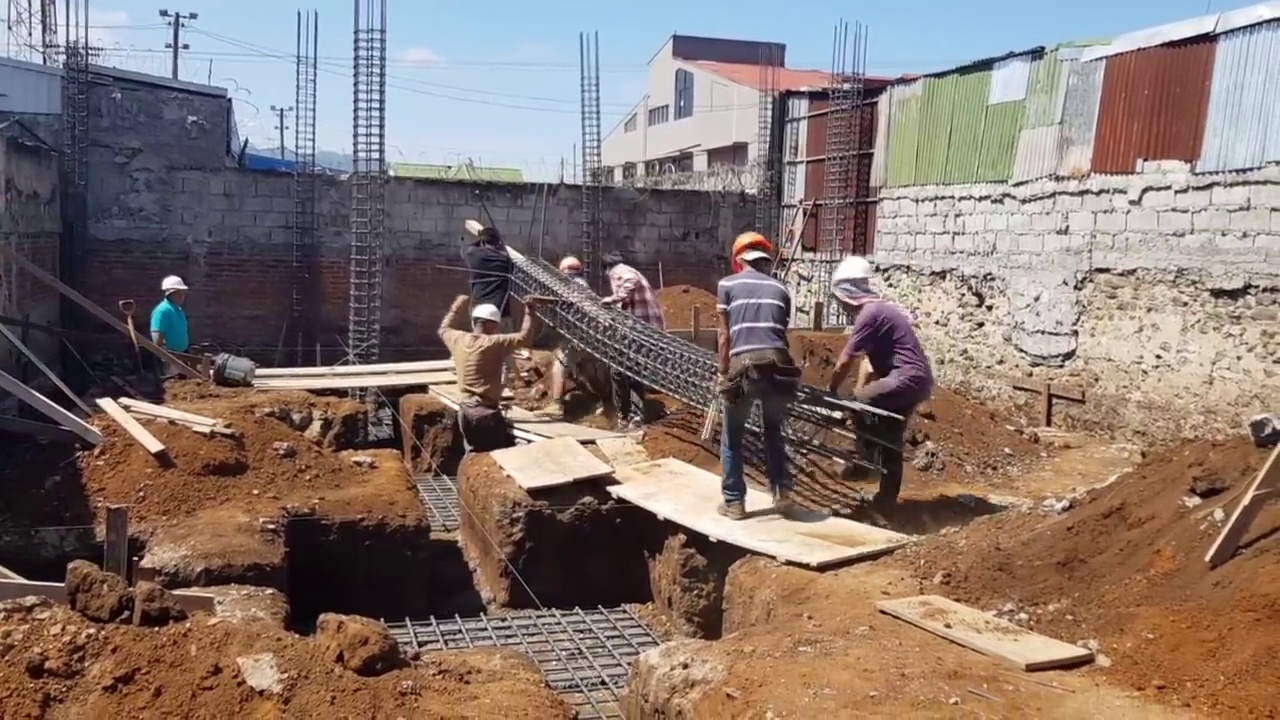helmet: (729, 231, 771, 270), (829, 257, 873, 287), (465, 223, 500, 242), (472, 304, 500, 325), (159, 276, 188, 291), (559, 256, 583, 273)
helmet-off: (601, 248, 623, 273)
helmet-on: (828, 257, 882, 322), (728, 230, 779, 274), (469, 304, 502, 335), (160, 276, 188, 306), (558, 257, 584, 281)
person: (708, 229, 805, 533), (821, 249, 927, 520), (440, 296, 532, 448), (539, 256, 609, 422), (601, 248, 665, 427), (459, 221, 514, 332), (149, 276, 188, 353)
